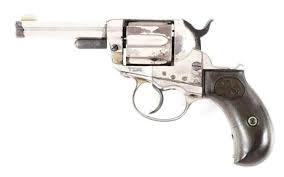gun: (13, 12, 277, 170)
